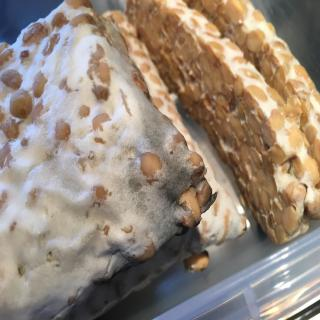Tempe: (1, 1, 220, 320), (124, 1, 313, 251)
